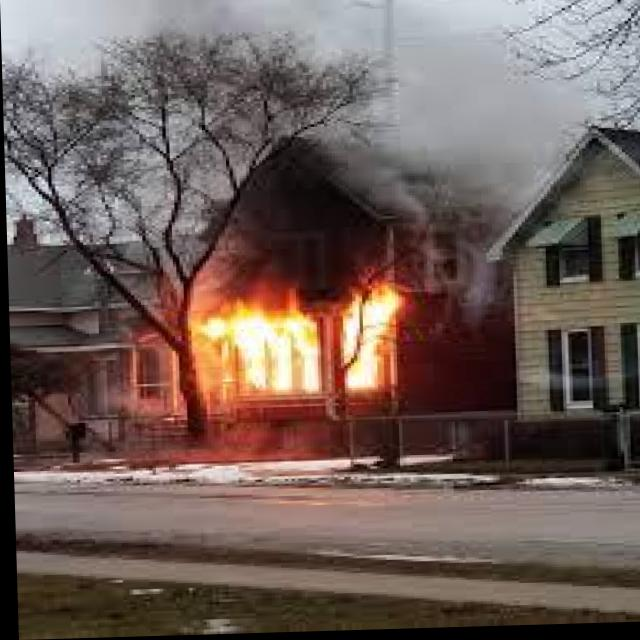fire: (164, 225, 429, 419)
